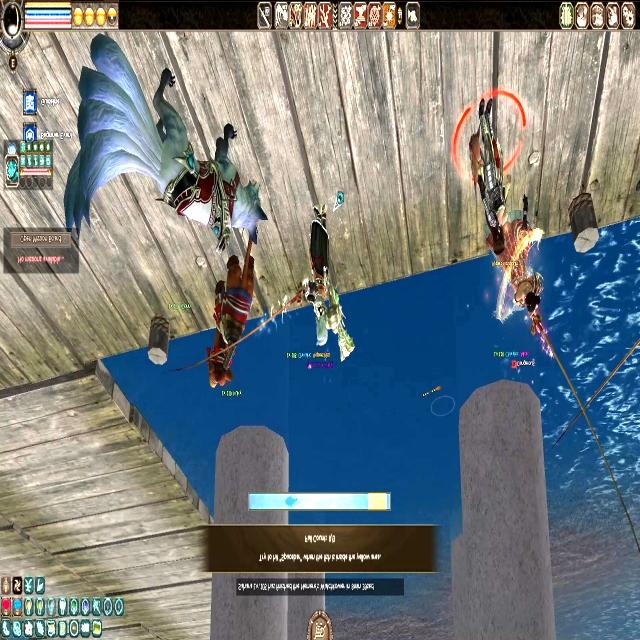fishes: (284, 495, 298, 508)
